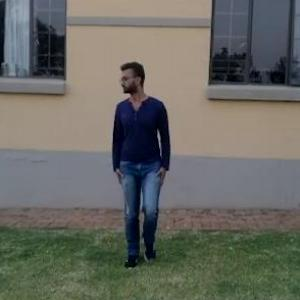follow: (104, 51, 176, 276)
